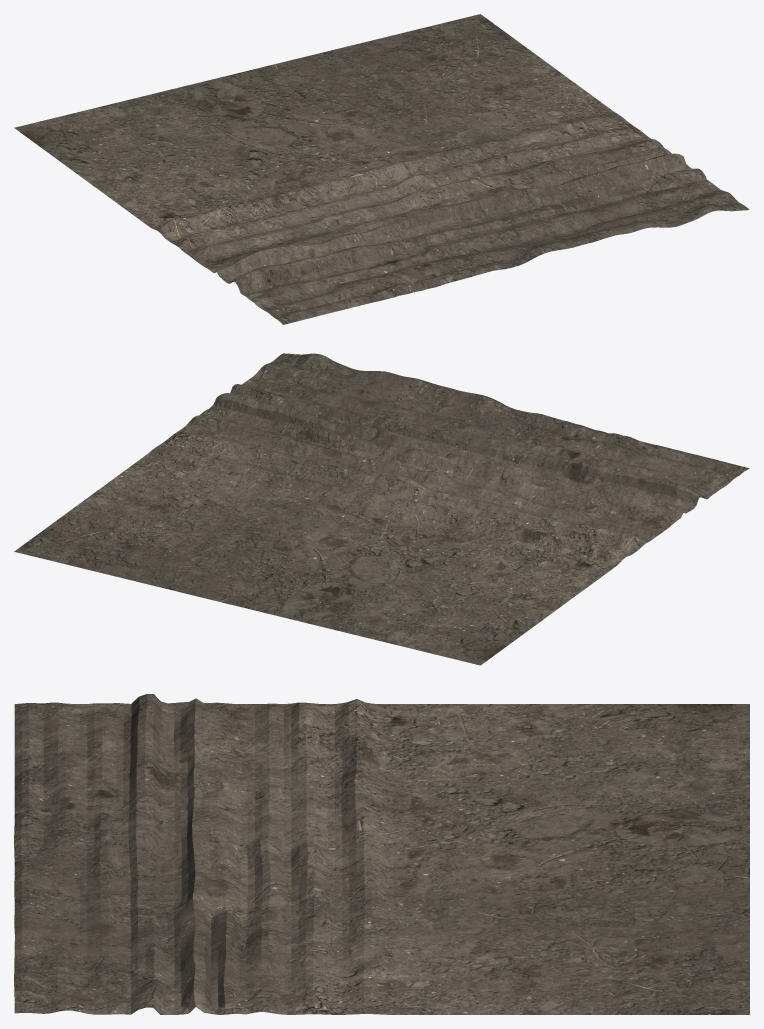
File: field_floor_1.dae
3 renders of one model, top to bottom at view 1: azimuth 30°, elevation 25°; view 2: azimuth 150°, elevation 25°; view 3: azimuth 270°, elevation 25°, orthographic. The views are drawn at different scales.
Parts seen in each view (by area): view 1: Plane; view 2: Plane; view 3: Plane.
Boxes of the visible parts, <box> form: Plane: <box>14,14,749,324</box>; Plane: <box>14,353,749,665</box>; Plane: <box>14,694,749,1014</box>.
Bounding box in the file's own units: 600 × 601 × 18.68.
